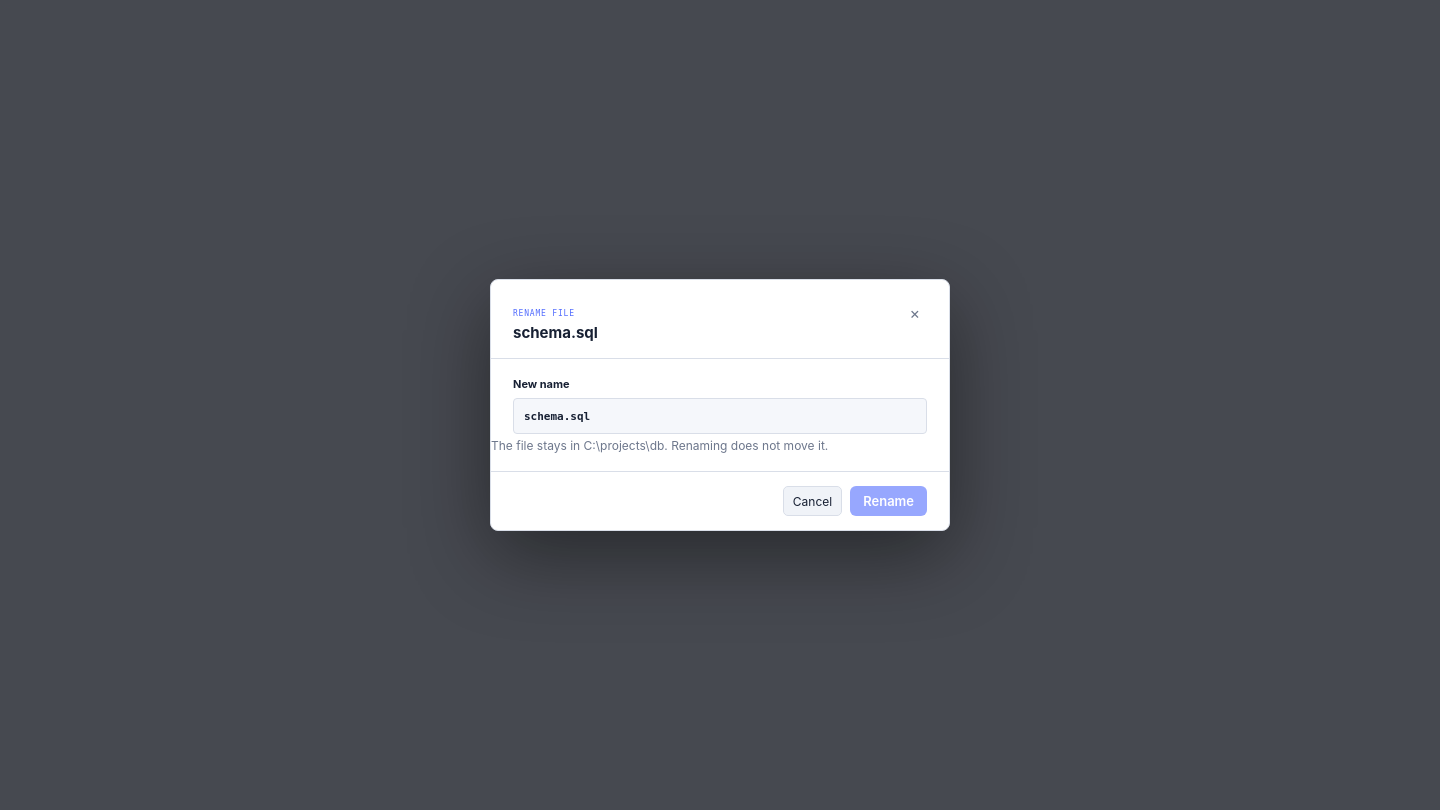
Test: rename dialog › warns before an extension change, because it swaps the viewer
The width and height of the screenshot is (1440, 810).
Expected: the text "changes which viewer" is not shown
Replace the text in the field labelled "New name" with "schema.txt": (720, 416) 513,398 -> 927,434
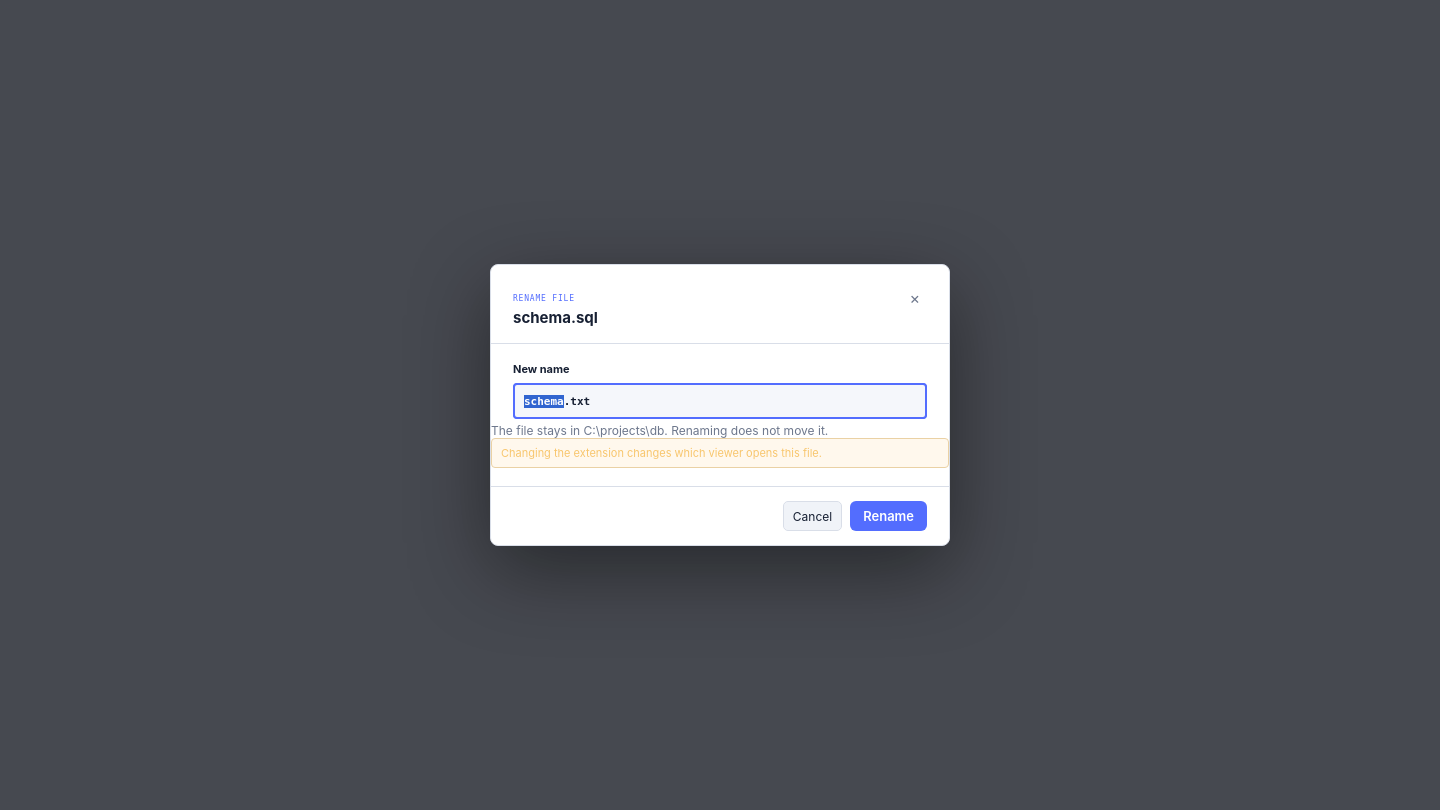
Now the text "Changing the extension changes which viewer opens this file." is shown, box 491,438 -> 949,468
